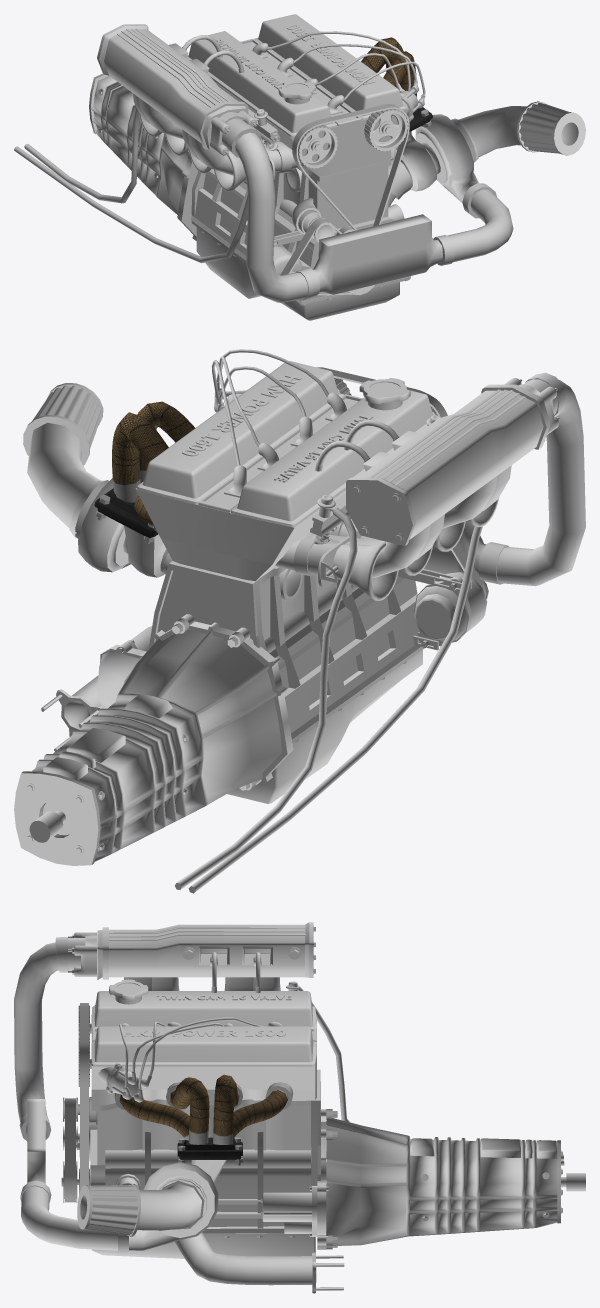
Rendered from Engine_opt.FBX.
3 renders of one model, top to bottom at view 1: azimuth 30°, elevation 25°; view 2: azimuth 150°, elevation 25°; view 3: azimuth 270°, elevation 25°, orthographic. The views are drawn at different scales.
Parts seen in each view (by area): view 1: CylinderHeadCover2; view 2: CylinderHeadCover2; view 3: CylinderHeadCover2.
Part boxes in pixels (bbox=[...]): CylinderHeadCover2: bbox=[14, 14, 585, 320]; CylinderHeadCover2: bbox=[14, 349, 585, 893]; CylinderHeadCover2: bbox=[14, 922, 585, 1293].
Bounding box in the file's own units: 106 × 71.8 × 134.
